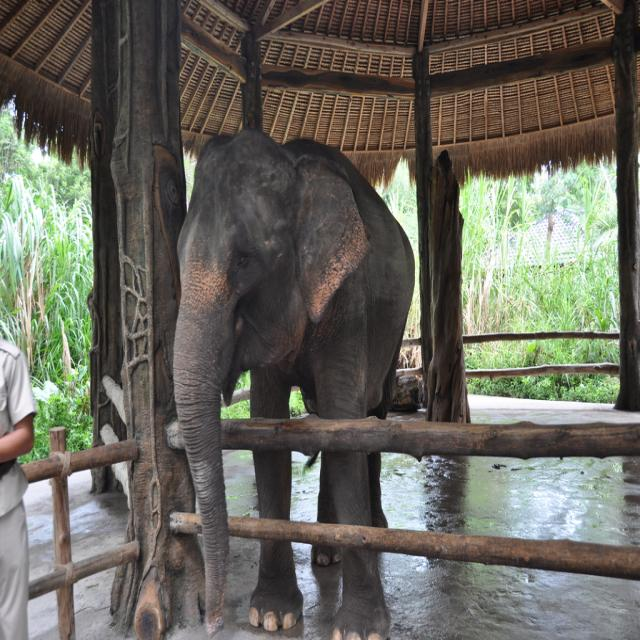Elephant: (171, 127, 415, 638)
person: (0, 337, 37, 639)
